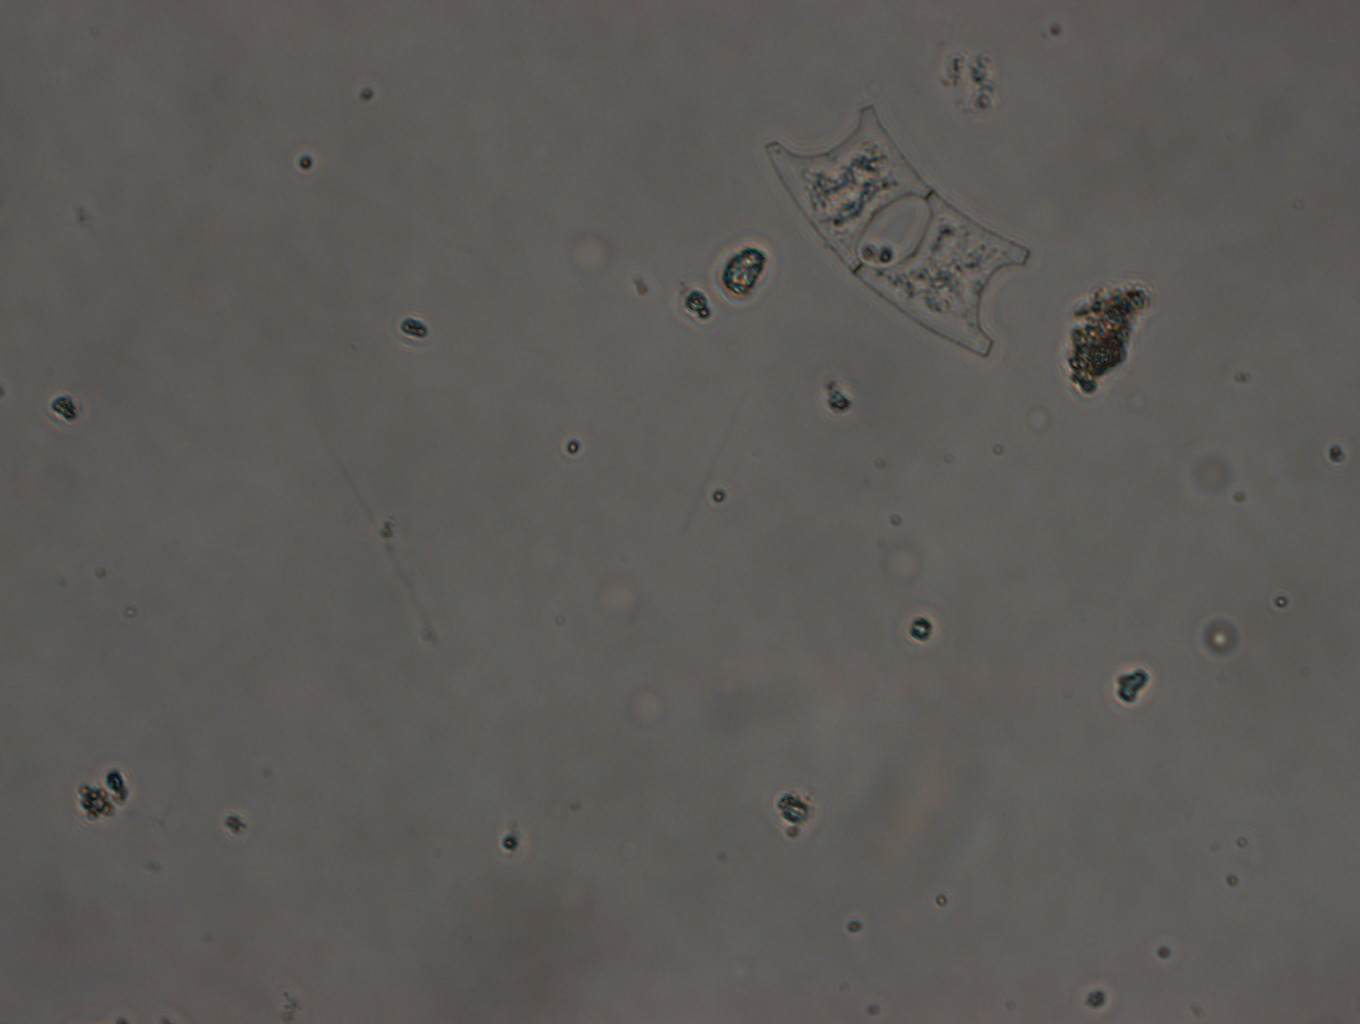eucampia: (767, 98, 1035, 375)
